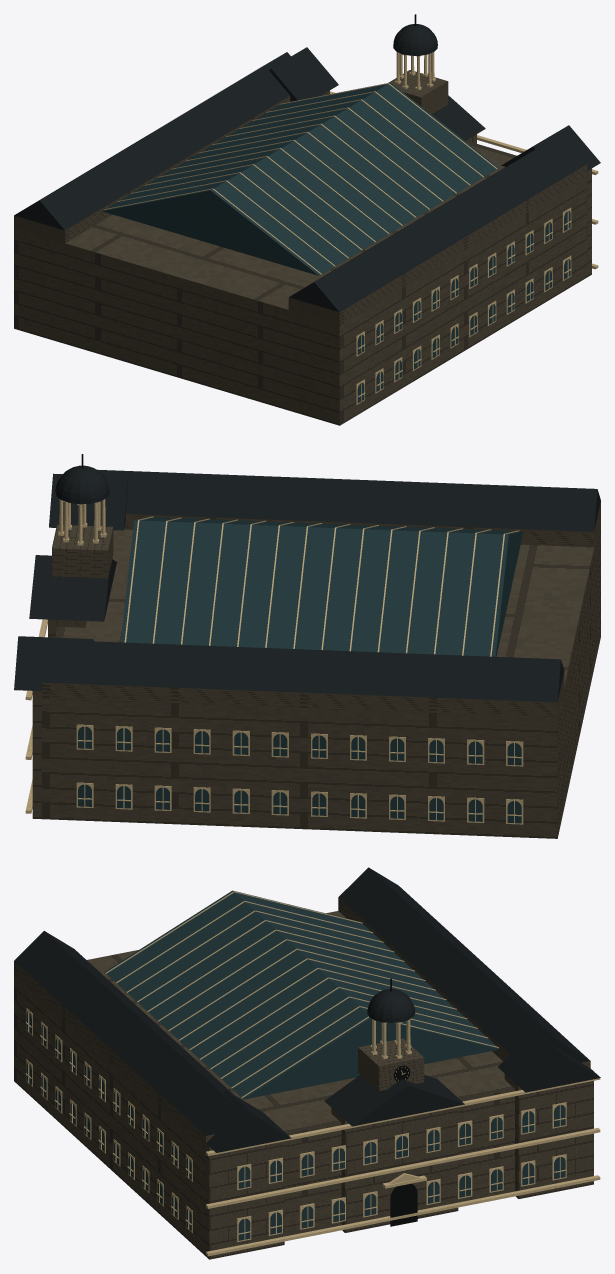
3 views of the same model, one above another, from view 1: azimuth 30°, elevation 25°; view 2: azimuth 150°, elevation 25°; view 3: azimuth 270°, elevation 25° (orthographic). The views are drawn at different scales.
Parts seen in each view (by area): view 1: oude-beurs-0, oude-beurs-2, oude-beurs-1, oude-beurs-3; view 2: oude-beurs-0, oude-beurs-2, oude-beurs-1, oude-beurs-3; view 3: oude-beurs-0, oude-beurs-2, oude-beurs-1, oude-beurs-3, oude-beurs-4.
Boxes of the visible parts, x1,y1,x2,y2 form: oude-beurs-0: (14, 70, 591, 425); oude-beurs-2: (102, 82, 570, 402); oude-beurs-1: (14, 24, 600, 312); oude-beurs-3: (104, 52, 598, 404); oude-beurs-0: (32, 501, 600, 838); oude-beurs-2: (78, 517, 523, 823); oude-beurs-1: (14, 465, 600, 702); oude-beurs-3: (25, 499, 523, 824); oude-beurs-0: (14, 897, 593, 1259); oude-beurs-2: (26, 890, 565, 1240); oude-beurs-1: (14, 867, 600, 1152); oude-beurs-3: (25, 891, 600, 1256); oude-beurs-4: (390, 978, 417, 1226).
Bounding box in the file's own units: 74.05 × 31 × 70.64.
5 materials, 5 textured.
